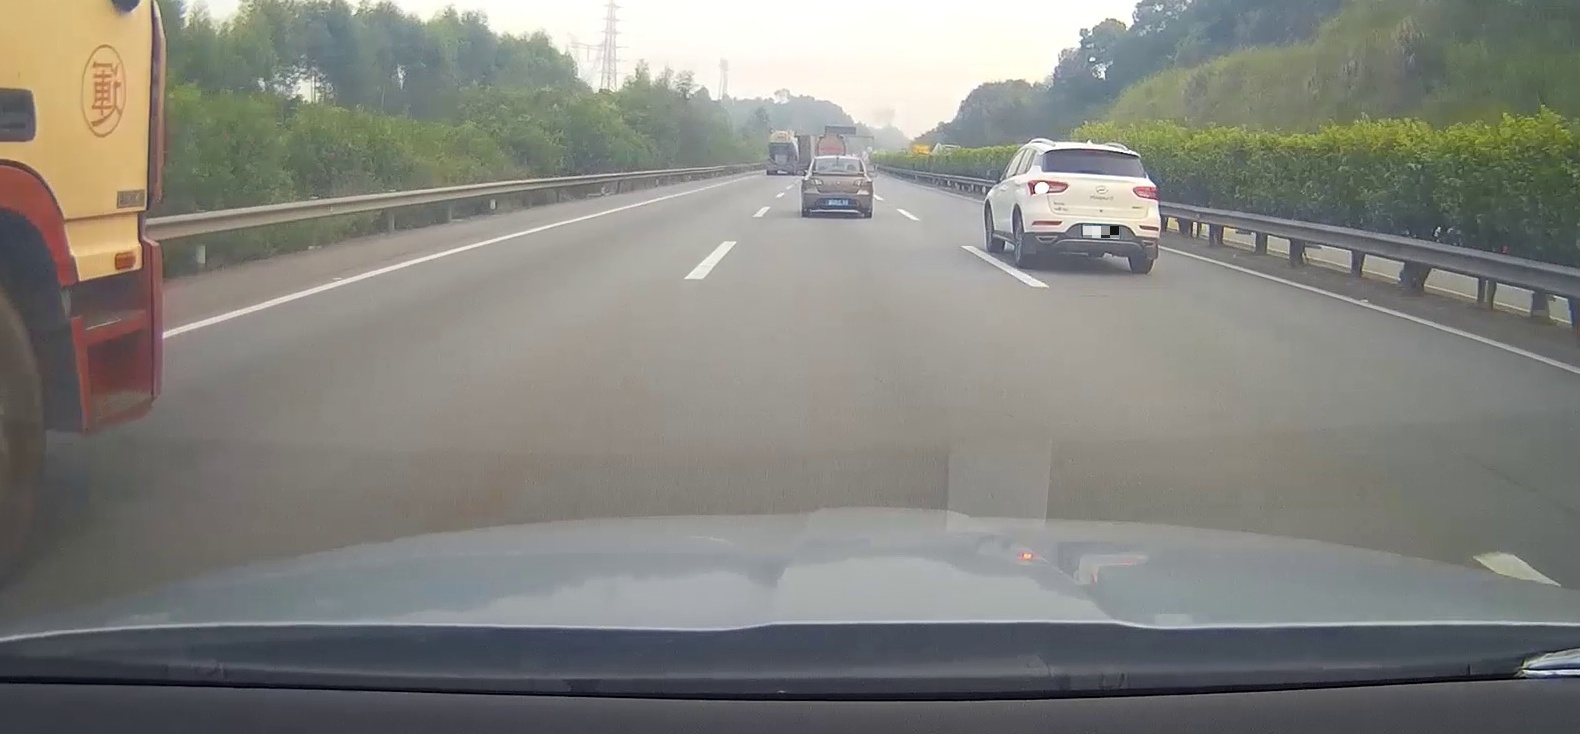L_light: (1027, 178, 1068, 196), (805, 178, 823, 185)
R_light: (1133, 185, 1160, 201), (853, 179, 871, 186)
T_light: (1082, 149, 1105, 153), (832, 159, 843, 161)
day-left: (1024, 144, 1161, 273)
day-no: (802, 156, 873, 217)
plate_1: (1083, 226, 1120, 238)
